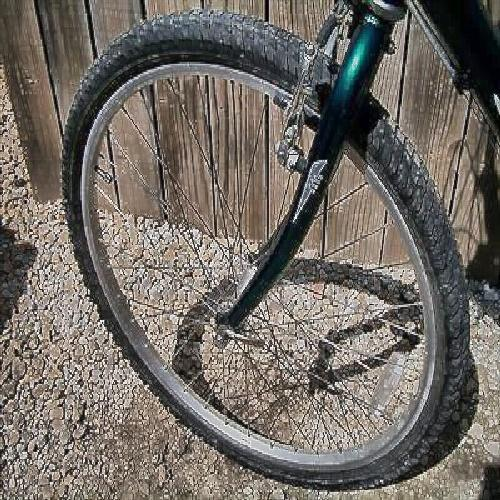bicycle: (84, 33, 463, 471)
